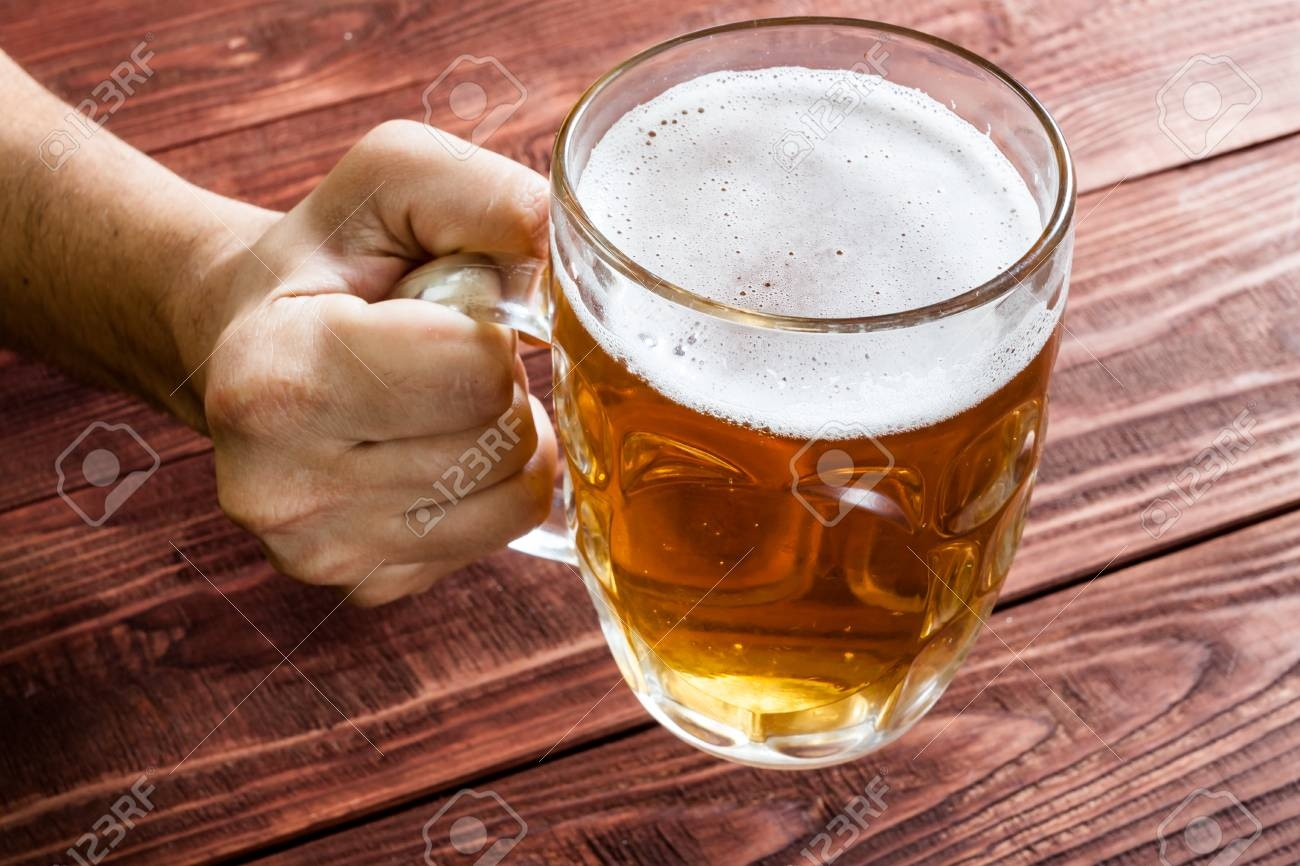glassBeer: (538, 20, 1083, 770)
